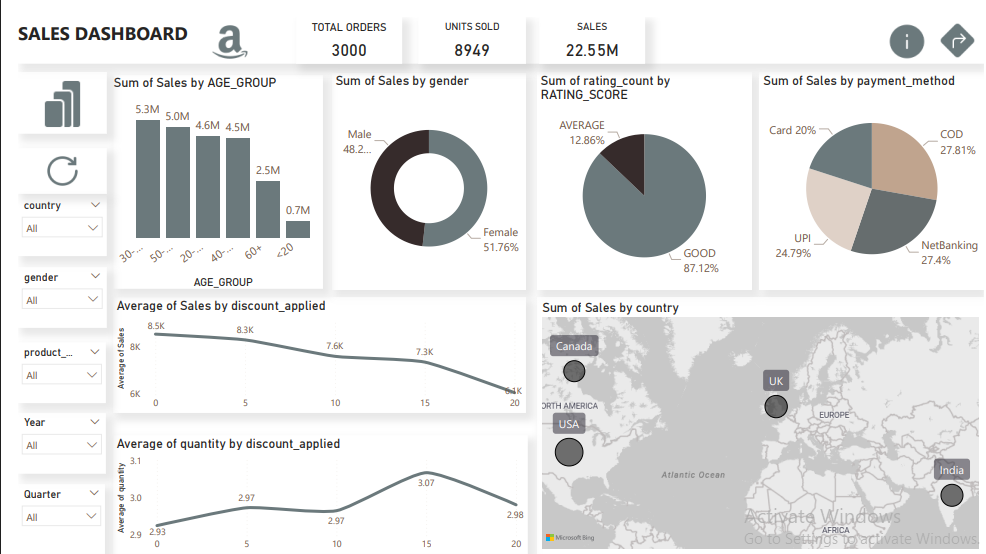

The dashboard page shown, as its layout file describes it:
{"tool":"powerbi","page":{"name":"Dashboard Overview","canvas":[1280,720],"ordinal":0},"visuals":[{"type":"donutChart","fields":{"Category":["dim_customer.gender"],"Y":["Sum(fact_sales.Sales)"]},"box":[416,74.2,257.5,286.5],"z":0},{"type":"pieChart","fields":{"Category":["dim_product.RATING_SCORE"],"Y":["Sum(dim_product.rating_count)"]},"box":[688,74.2,283.6,288],"z":1000},{"type":"pieChart","fields":{"Category":["fact_sales.payment_method"],"Y":["Sum(fact_sales.Sales)"]},"box":[983.3,74.2,296.7,288],"z":2000},{"type":"lineChart","fields":{"Category":["fact_sales.discount_applied"],"Y":["Avg(fact_sales.quantity)"]},"box":[126.3,555,548.6,156.7],"z":3000},{"type":"lineChart","fields":{"Category":["fact_sales.discount_applied"],"Y":["Avg(fact_sales.Sales)"]},"box":[126.3,372.2,546.4,152.4],"z":4000},{"type":"map","fields":{"Category":["dim_location.country"],"Size":["Sum(fact_sales.Sales)"]},"box":[687.9,372.2,592.1,339.6],"z":5000},{"type":"columnChart","fields":{"Category":["dim_customer.AGE_GROUP"],"Y":["Sum(fact_sales.Sales)"]},"box":[126.8,76.8,277,283.7],"z":6000},{"type":"slicer","fields":{"Values":["dim_location.country"]},"box":[0,237,116.8,80.1],"z":7000},{"type":"slicer","fields":{"Values":["dim_customer.gender"]},"box":[0,332.1,116.8,80.1],"z":8000},{"type":"slicer","fields":{"Values":["dim_product.product_main_category"]},"box":[0,432,116.4,80],"z":9000},{"type":"slicer","fields":{"Values":["fact_sales.order_date.Variation.Date Hierarchy.Year"]},"box":[0,525.1,116.4,80],"z":10000},{"type":"slicer","fields":{"Values":["fact_sales.order_date.Variation.Date Hierarchy.Quarter"]},"box":[0,620.4,115.4,91.4],"z":11000},{"type":"textbox","box":[0,0,1279.8,62.4],"z":12000},{"type":"image","box":[0,73.4,116.8,80.1],"z":13000},{"type":"image","box":[0,174,116.8,60.1],"z":14000},{"type":"image","box":[239.5,0,80.8,62.4],"z":15000},{"type":"image","box":[1210.4,0,69.4,62.4],"z":16000},{"type":"image","box":[1146,0,63.9,63.9],"z":17000},{"type":"card","title":"TOTAL ORDERS","fields":{"Values":["dim_customer.Total Orders"]},"box":[368.8,0,140.2,61.7],"z":18000},{"type":"card","title":"UNITS SOLD","fields":{"Values":["Sum(fact_sales.quantity)"]},"box":[530.7,0,141.9,61.7],"z":19000},{"type":"card","title":"SALES","fields":{"Values":["fact_sales.total_sales"]},"box":[690.9,0,140.2,61.7],"z":20000}]}

Visuals, with their boxes on the page's 1280x720 design canvas (x1, y1, x2, y2). These are canvas units, not pixel positions in the 986x554 screenshot, which may show the page scaled, cropped or inside an application window:
donutChart - dim_customer.gender x Sum(fact_sales.Sales): [416,74,674,361]
pieChart - dim_product.RATING_SCORE x Sum(dim_product.rating_count): [688,74,972,362]
pieChart - fact_sales.payment_method x Sum(fact_sales.Sales): [983,74,1280,362]
lineChart - fact_sales.discount_applied x Avg(fact_sales.quantity): [126,555,675,712]
lineChart - fact_sales.discount_applied x Avg(fact_sales.Sales): [126,372,673,525]
map - dim_location.country x Sum(fact_sales.Sales): [688,372,1280,712]
columnChart - dim_customer.AGE_GROUP x Sum(fact_sales.Sales): [127,77,404,360]
slicer - dim_location.country: [0,237,117,317]
slicer - dim_customer.gender: [0,332,117,412]
slicer - dim_product.product_main_category: [0,432,116,512]
slicer - fact_sales.order_date.Variation.Date Hierarchy.Year: [0,525,116,605]
slicer - fact_sales.order_date.Variation.Date Hierarchy.Quarter: [0,620,115,712]
textbox: [0,0,1280,62]
image: [0,73,117,154]
image: [0,174,117,234]
image: [240,0,320,62]
image: [1210,0,1280,62]
image: [1146,0,1210,64]
"TOTAL ORDERS" card: [369,0,509,62]
"UNITS SOLD" card: [531,0,673,62]
"SALES" card: [691,0,831,62]
